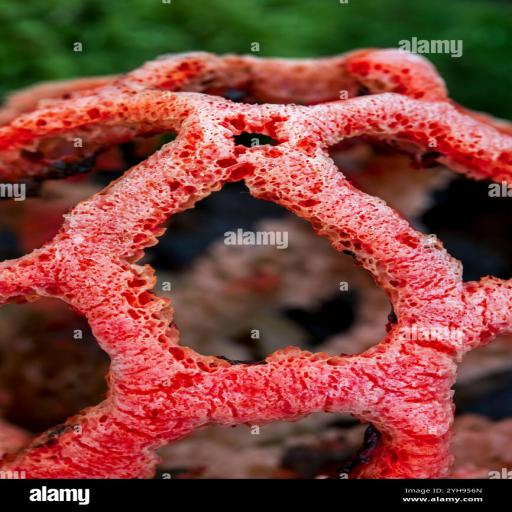Red Cage Fungus: (1, 55, 512, 476)
